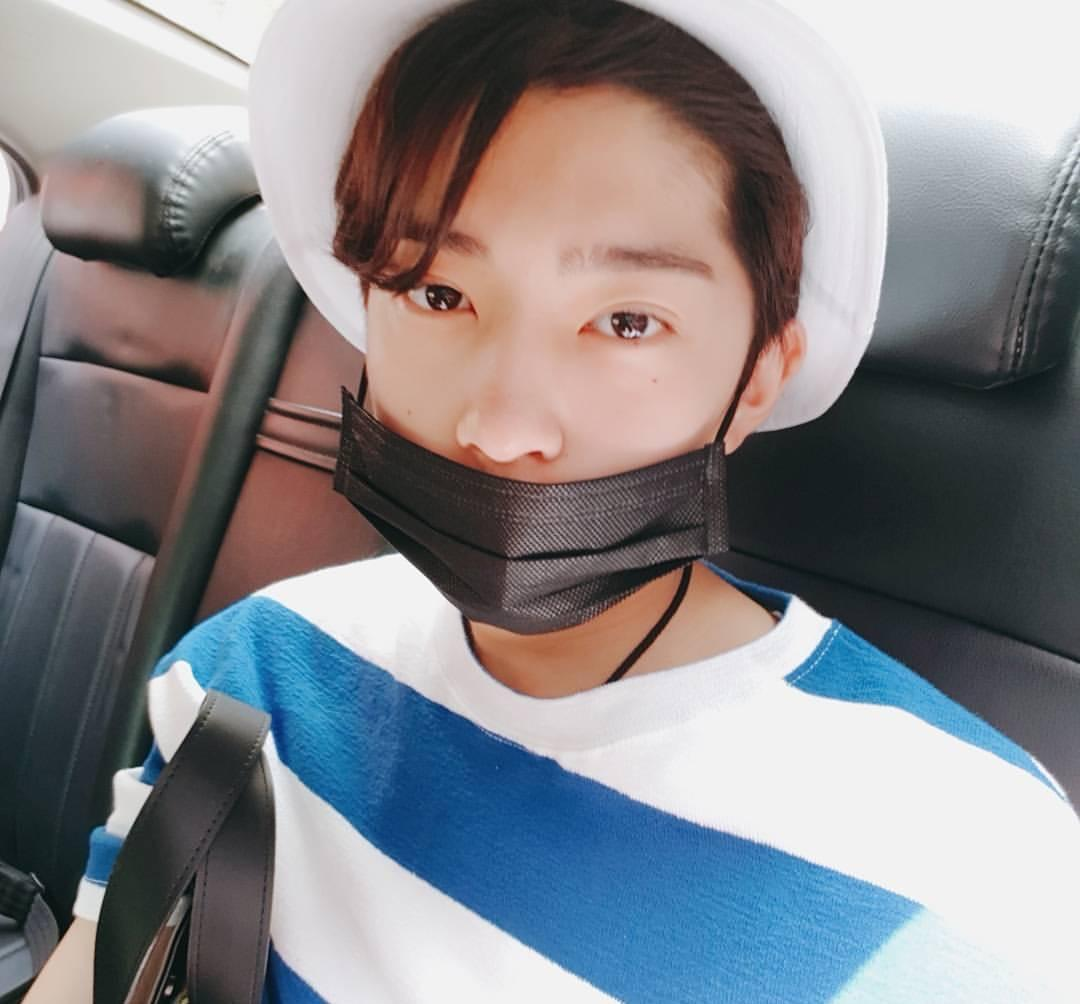WRONG: (323, 177, 771, 625)
